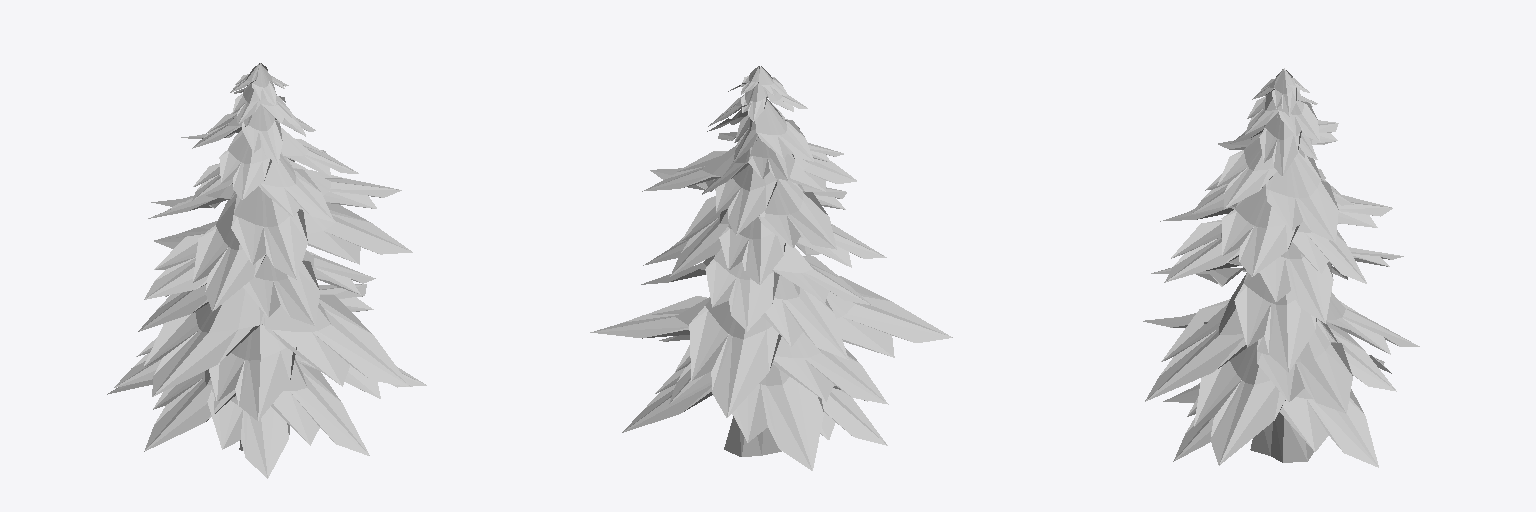
The model's file is PineTree.obj.
3 views of the same model, side by side, from view 1: azimuth 30°, elevation 25°; view 2: azimuth 150°, elevation 25°; view 3: azimuth 270°, elevation 25° (orthographic).
Visible parts, largest first — view 1: Plane.037_Tree_tex_0; view 2: Plane.037_Tree_tex_0; view 3: Plane.037_Tree_tex_0.
Part boxes in pixels (left/top/right/bottom): Plane.037_Tree_tex_0: left=107, top=63, right=426, bottom=478; Plane.037_Tree_tex_0: left=590, top=66, right=952, bottom=470; Plane.037_Tree_tex_0: left=1143, top=68, right=1419, bottom=467.
Bounding box in the file's own units: 9.39 × 11.84 × 7.87.